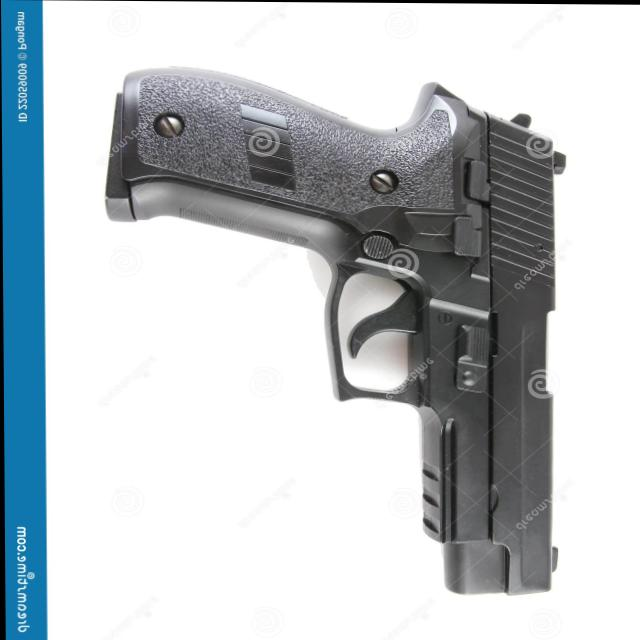handgun: (101, 67, 557, 596)
